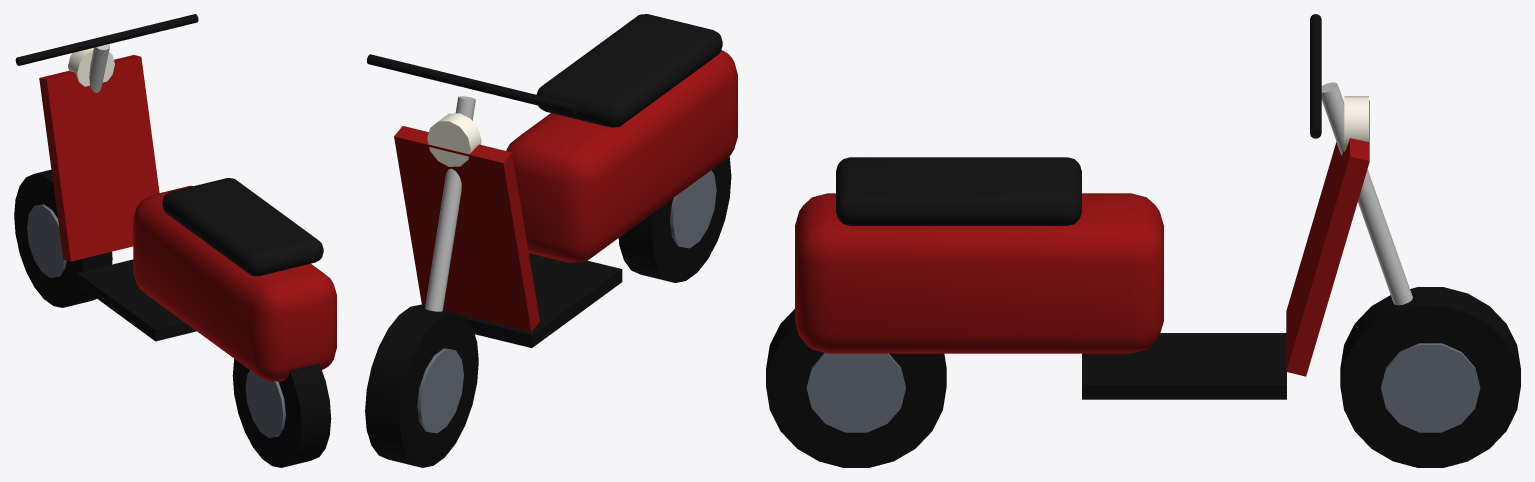
File: vehicle.bike.scooter.glb
3 views of the same model, side by side, from view 1: azimuth 30°, elevation 25°; view 2: azimuth 150°, elevation 25°; view 3: azimuth 270°, elevation 25° (orthographic). The views are drawn at different scales.
Parts seen in each view (by area): view 1: main__car_red, main__rubber, main__leather_black, main__plastic_black, main__steel_painted, main__light_emitter, main__steel_stainless; view 2: main__car_red, main__rubber, main__leather_black, main__plastic_black, main__steel_painted, main__steel_stainless, main__light_emitter; view 3: main__car_red, main__rubber, main__leather_black, main__plastic_black, main__steel_painted, main__steel_stainless, main__light_emitter.
Boxes of the visible parts, box(x1,y1,x2,y2) form: main__car_red: box(39, 55, 336, 381); main__rubber: box(14, 170, 331, 467); main__leather_black: box(162, 178, 323, 276); main__plastic_black: box(15, 14, 198, 341); main__steel_painted: box(27, 204, 285, 437); main__light_emitter: box(68, 47, 114, 86); main__steel_stainless: box(89, 44, 109, 92); main__car_red: box(394, 50, 737, 331); main__rubber: box(365, 156, 731, 467); main__leather_black: box(536, 14, 722, 127); main__plastic_black: box(367, 54, 622, 347); main__steel_painted: box(417, 170, 716, 433); main__steel_stainless: box(425, 96, 475, 311); main__light_emitter: box(427, 113, 481, 166); main__car_red: box(795, 100, 1369, 376); main__rubber: box(766, 287, 1520, 467); main__leather_black: box(836, 157, 1081, 225); main__plastic_black: box(1082, 14, 1321, 399); main__steel_painted: box(806, 343, 1480, 432); main__steel_stainless: box(1321, 82, 1412, 305); main__light_emitter: box(1344, 96, 1368, 151).
Size of the model in its own units: 0.66 by 1.04 by 1.84.
